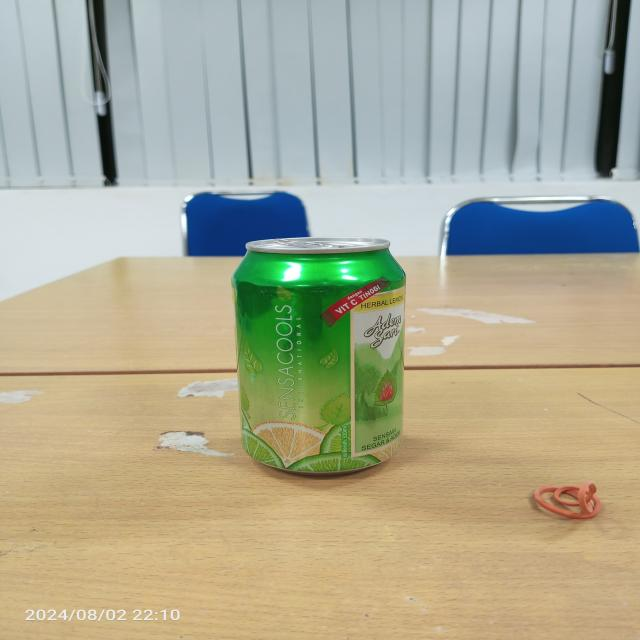ademsarikaleng: (230, 236, 407, 477)
